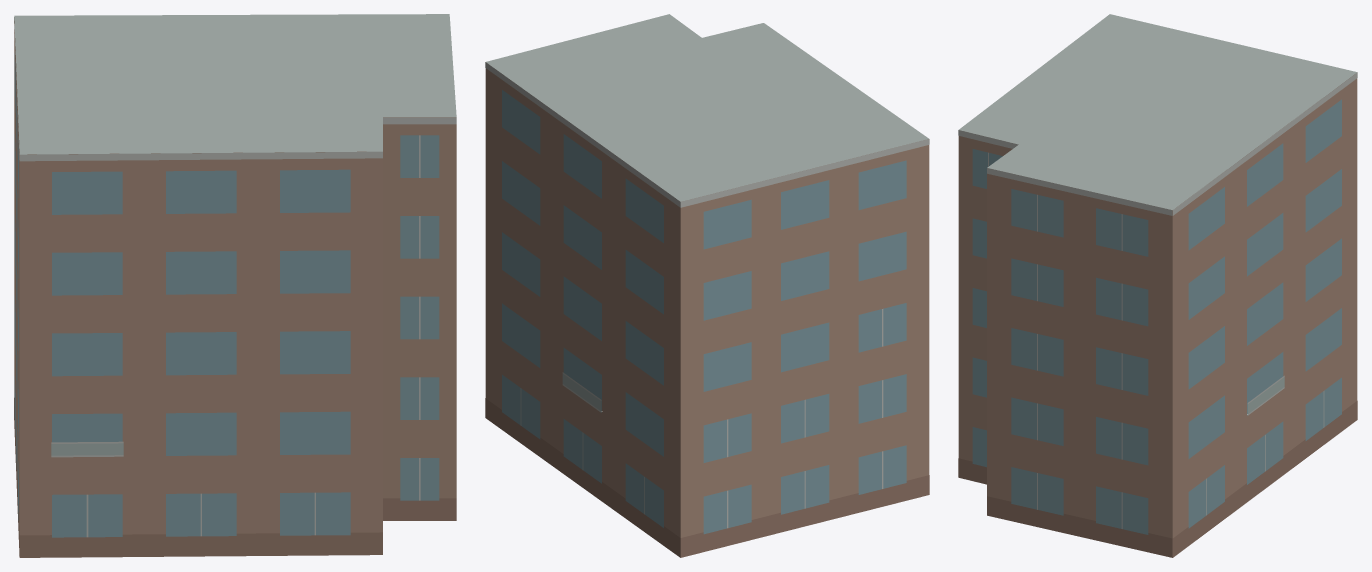
File: survey-upis-32944797.glb
3 views of the same model, side by side, from view 1: azimuth 30°, elevation 25°; view 2: azimuth 150°, elevation 25°; view 3: azimuth 270°, elevation 25° (orthographic). The views are drawn at different scales.
Visible parts, largest first — view 1: survey-upis-32944797.tmp; view 2: survey-upis-32944797.tmp; view 3: survey-upis-32944797.tmp.
Part boxes in pixels (left/top/right/bottom): survey-upis-32944797.tmp: left=14, top=14, right=456, bottom=557; survey-upis-32944797.tmp: left=485, top=14, right=929, bottom=557; survey-upis-32944797.tmp: left=958, top=14, right=1357, bottom=557.
Bounding box in the file's own units: 17.62 × 14.55 × 15.14.
